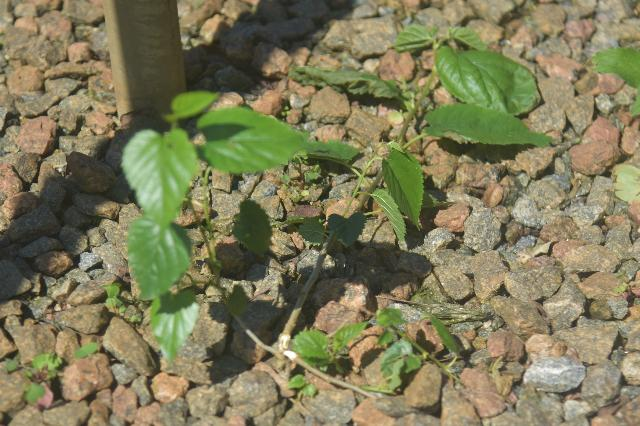MalezaMontesDelPlata: (122, 82, 314, 373), (288, 18, 560, 172), (273, 292, 493, 411), (0, 324, 103, 410), (588, 36, 640, 116)
